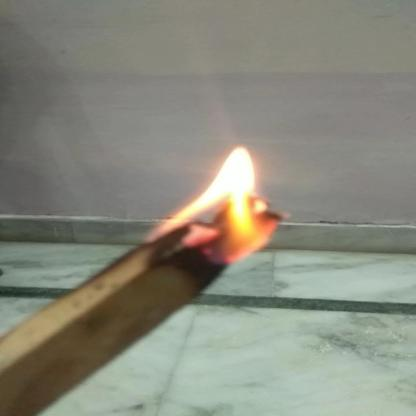fire: (146, 143, 293, 263)
